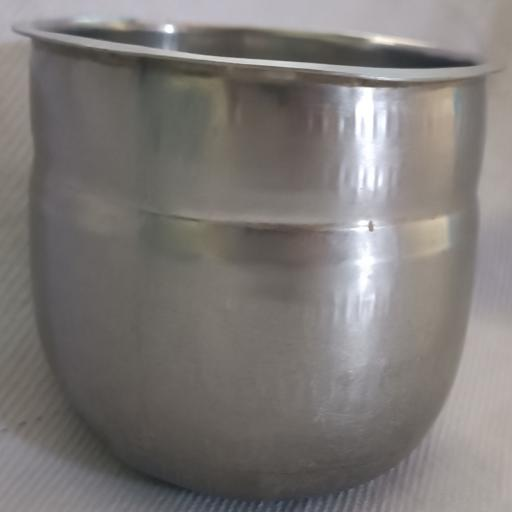vessel: (16, 18, 496, 498)
